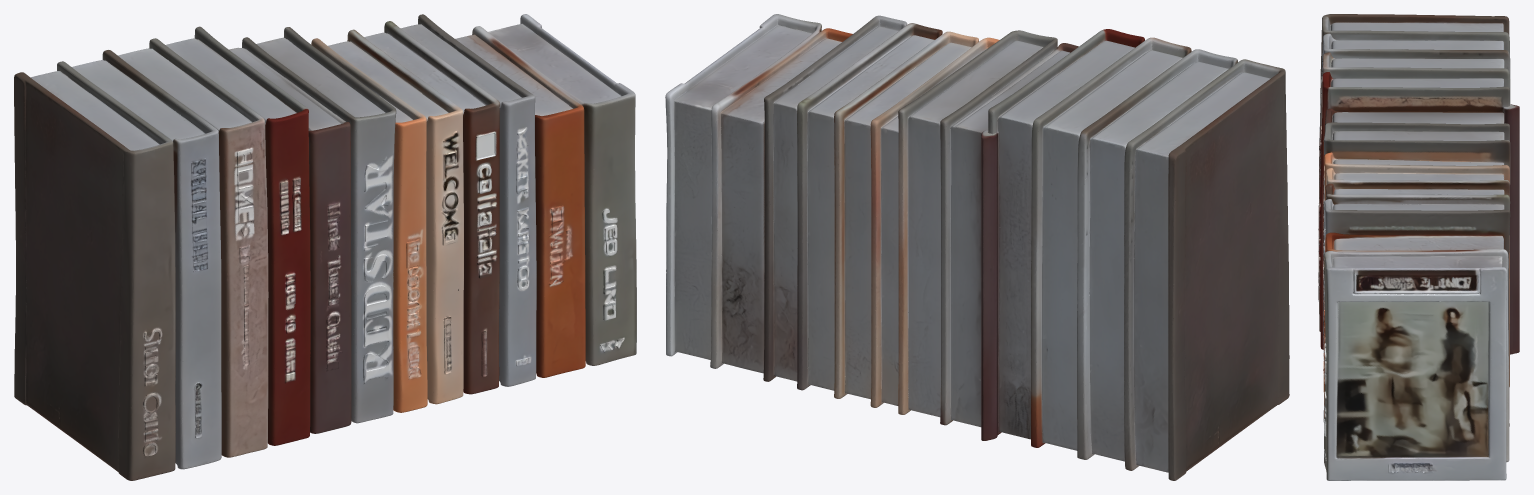
The model's file is base_basic_pbr.glb.
3 renders of one model, left to right at view 1: azimuth 30°, elevation 25°; view 2: azimuth 150°, elevation 25°; view 3: azimuth 270°, elevation 25°, orthographic. The views are drawn at different scales.
Parts seen in each view (by area): view 1: model; view 2: model; view 3: model.
Part boxes in pixels (x1,y1,x2,y2): model: [14, 14, 636, 480]; model: [665, 14, 1289, 480]; model: [1318, 14, 1519, 480].
Bounding box in the file's own units: 1.9 × 1.16 × 0.7967.
1 material, 1 textured.
